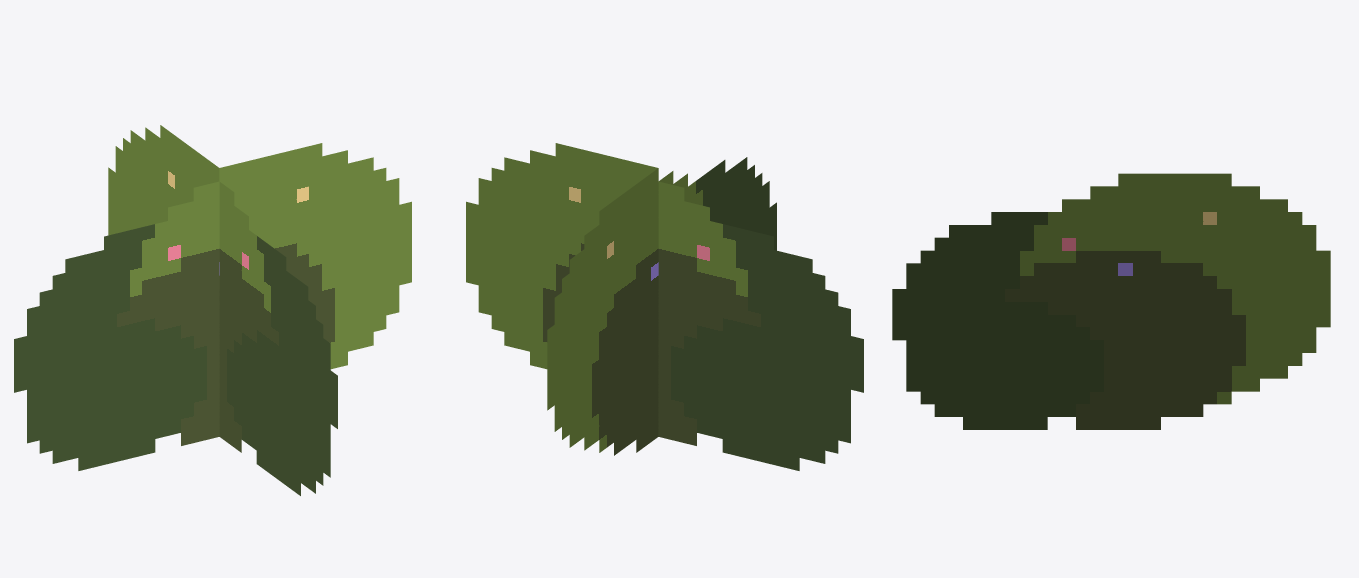
The model's file is bush.glb.
3 renders of one model, left to right at view 1: azimuth 30°, elevation 25°; view 2: azimuth 150°, elevation 25°; view 3: azimuth 270°, elevation 25°, orthographic. The views are drawn at different scales.
Parts seen in each view (by area): view 1: bush; view 2: bush; view 3: bush.
Boxes of the visible parts, <box> form: bush: <box>14,125,411,495</box>; bush: <box>466,143,863,470</box>; bush: <box>892,173,1330,429</box>.
Bounding box in the file's own units: 32 × 28 × 32.
1 material, 1 textured.
